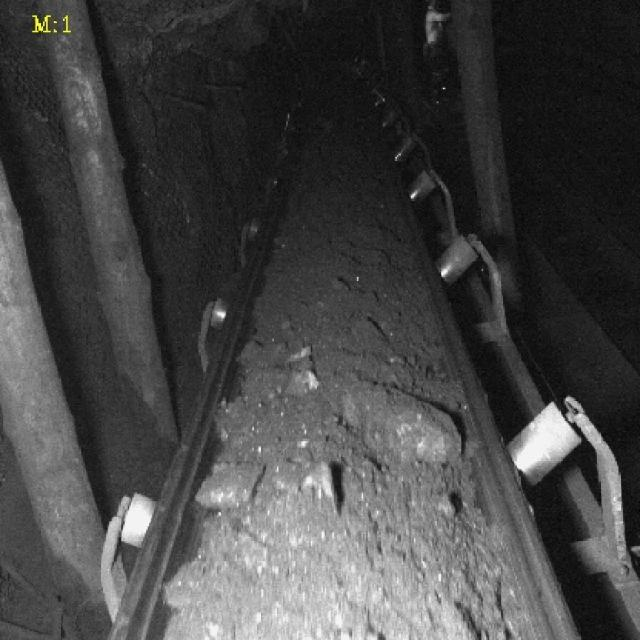large_sized_coal: (348, 375, 462, 468), (282, 460, 342, 523), (200, 458, 260, 518)
